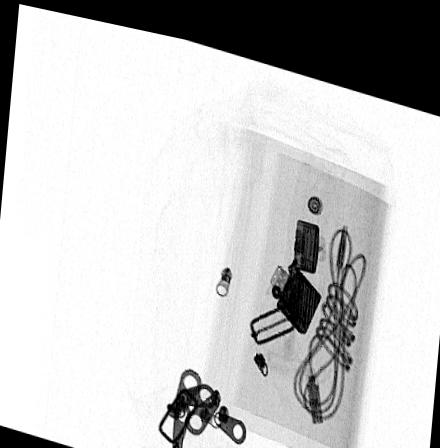Lighter: (268, 205, 321, 321)
